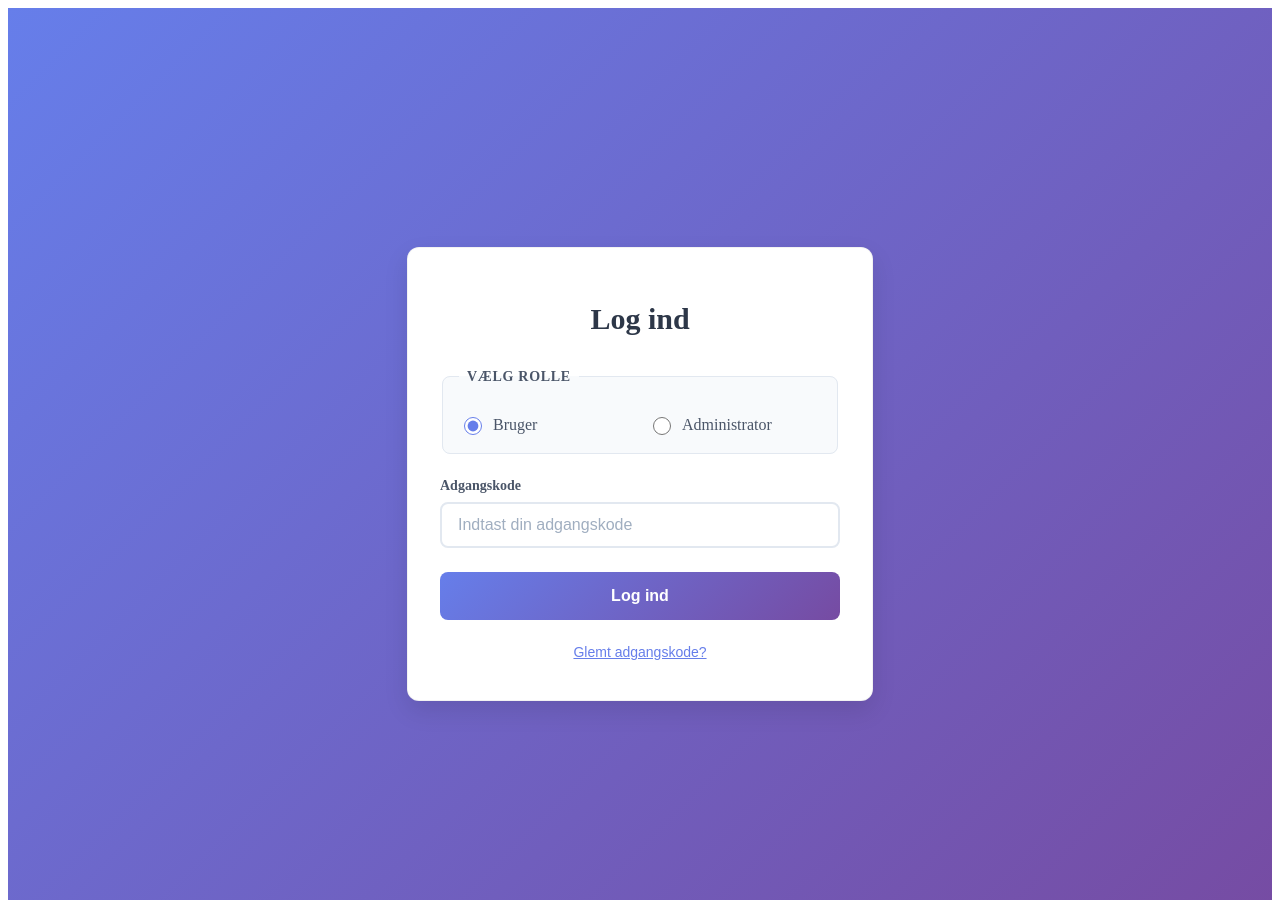
LoginForm › clears validation errors when user fixes input
The image size is (1280, 900).
# Submit empty form to trigger validation error
Click the button with test id "login-submit" at (640,596), box x1=440 y1=572 x2=840 y2=620
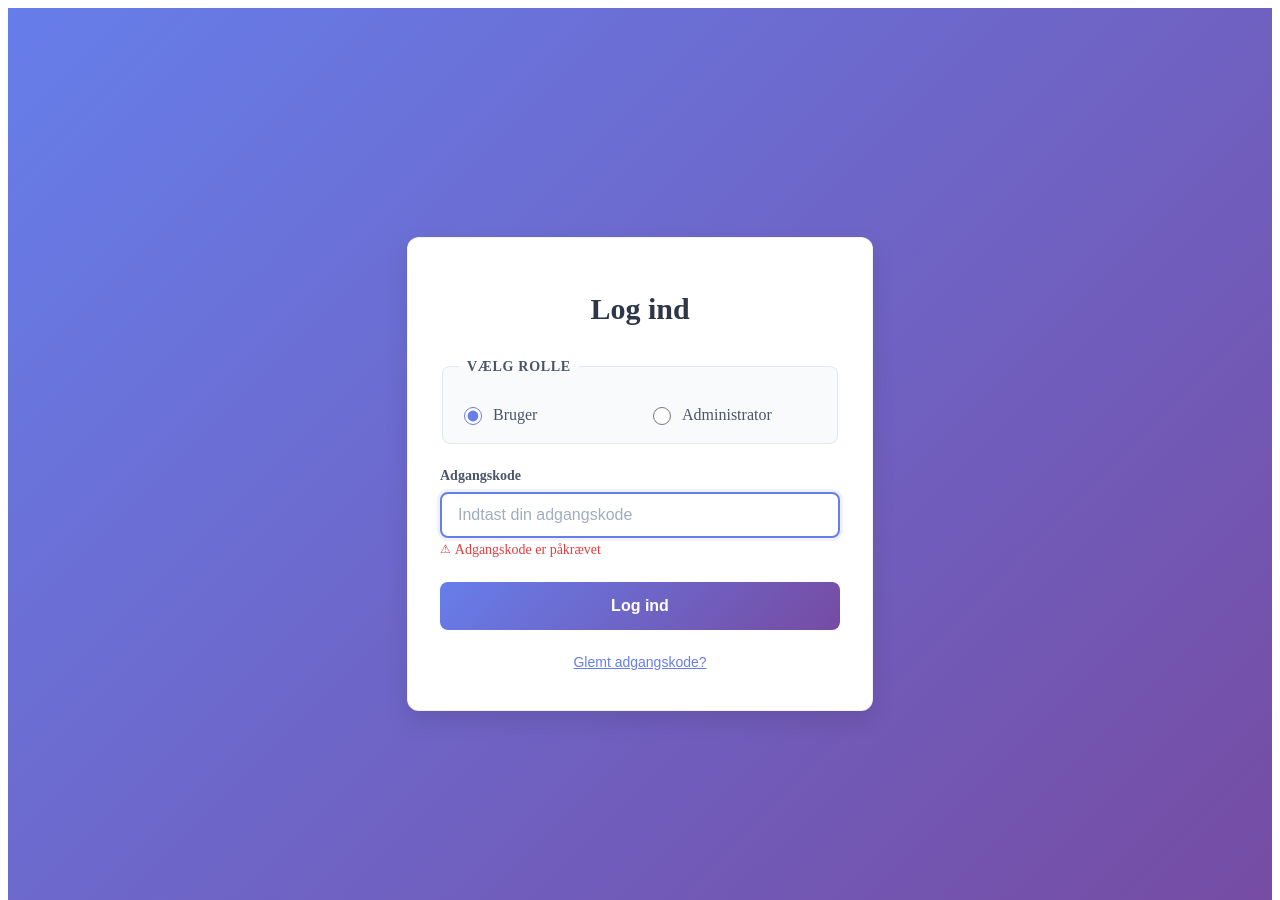
Now the message "Adgangskode er påkrævet" is shown, box x1=455 y1=542 x2=601 y2=556
# Type valid password
Type "validpassword123" into the password field with test id "password-input" at (640,514), box x1=440 y1=492 x2=840 y2=538
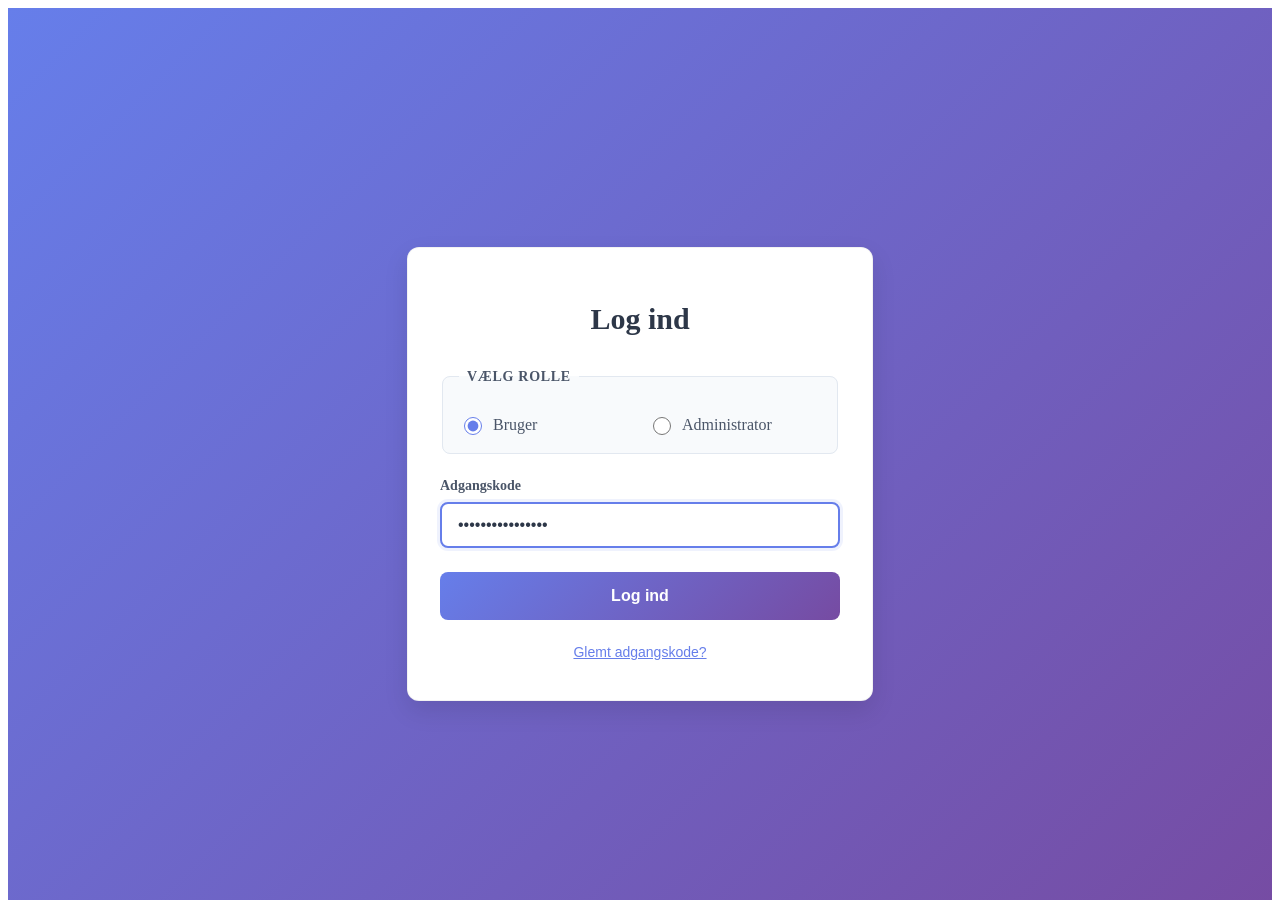
Now the message with test id "password-error" is gone
